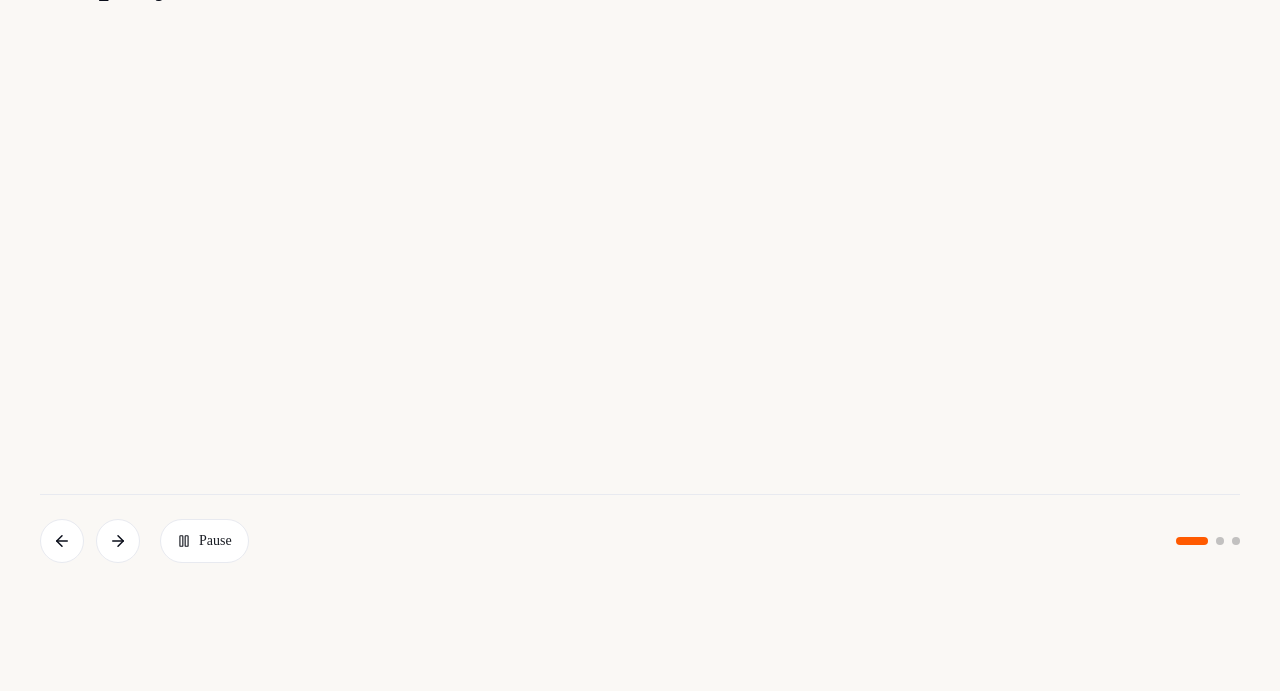
Test case: CasesCarousel (homepage §6.5 enrichi) › avance au slide suivant via le bouton ←/→
(page scrolled)
Click the button named "Cas suivant" at x=118, y=541, box [96,519,140,563]
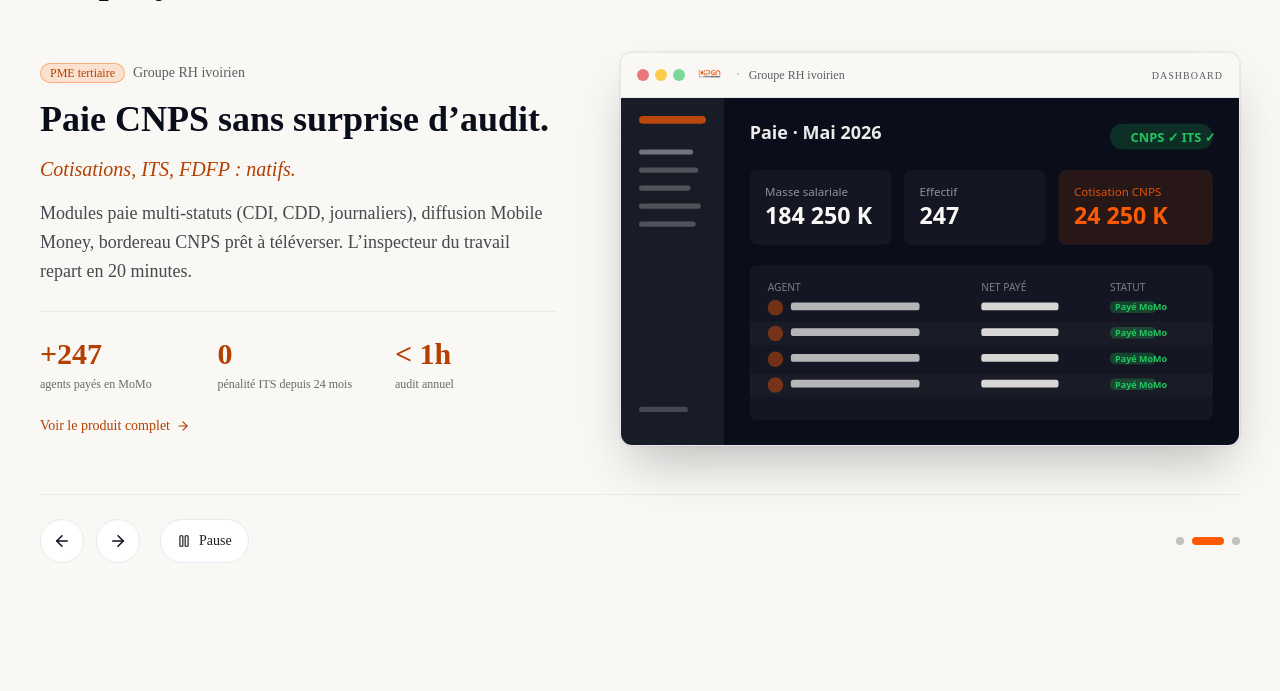
Check: the heading "Paie CNPS sans surprise d’audit." is shown, box [40,99,556,139]
